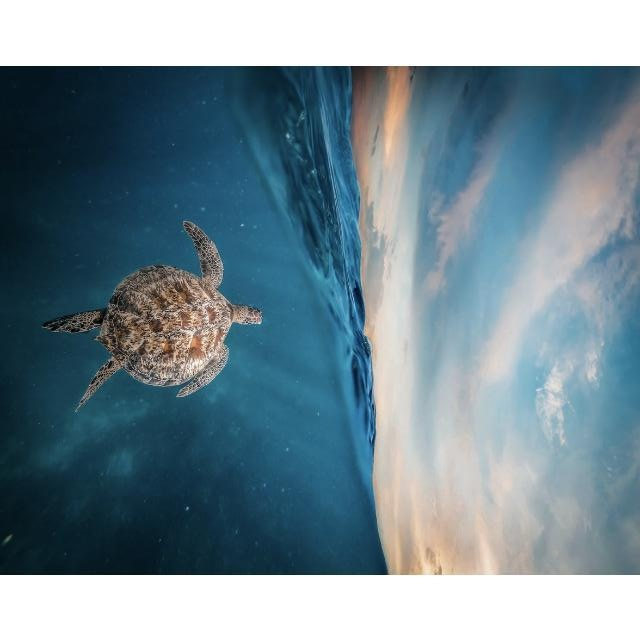turtle: (40, 219, 264, 413)
